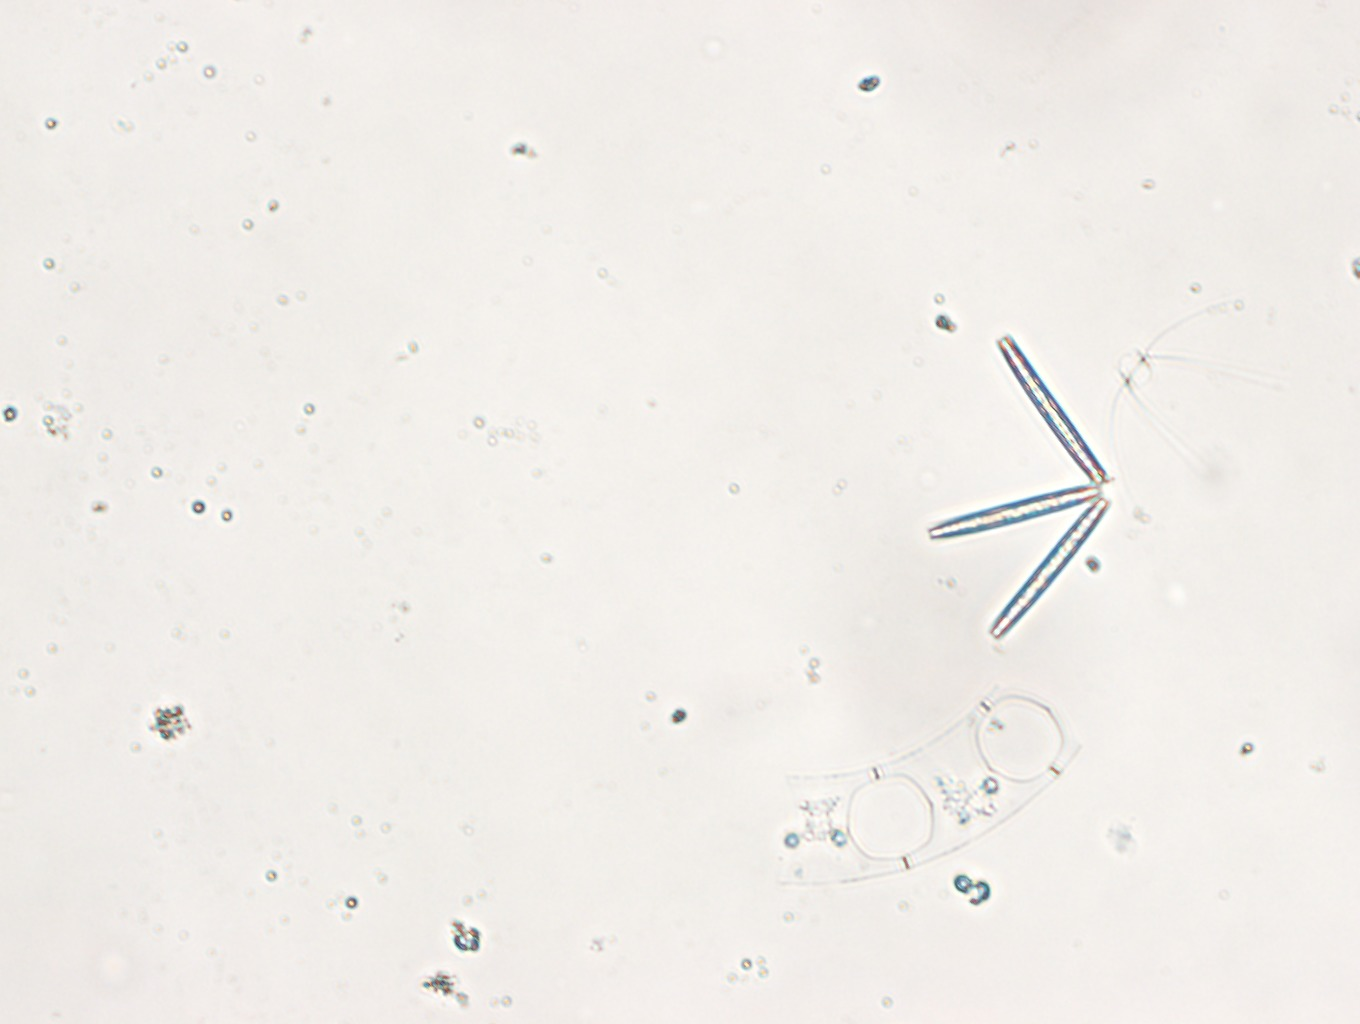chaetoceros: (1111, 294, 1294, 530)
eucampia: (765, 670, 1080, 888)
thalassionema nitzschioides: (922, 330, 1119, 642)
